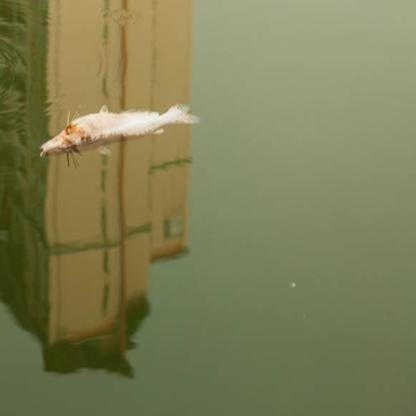deceased fish: (35, 104, 210, 157)
